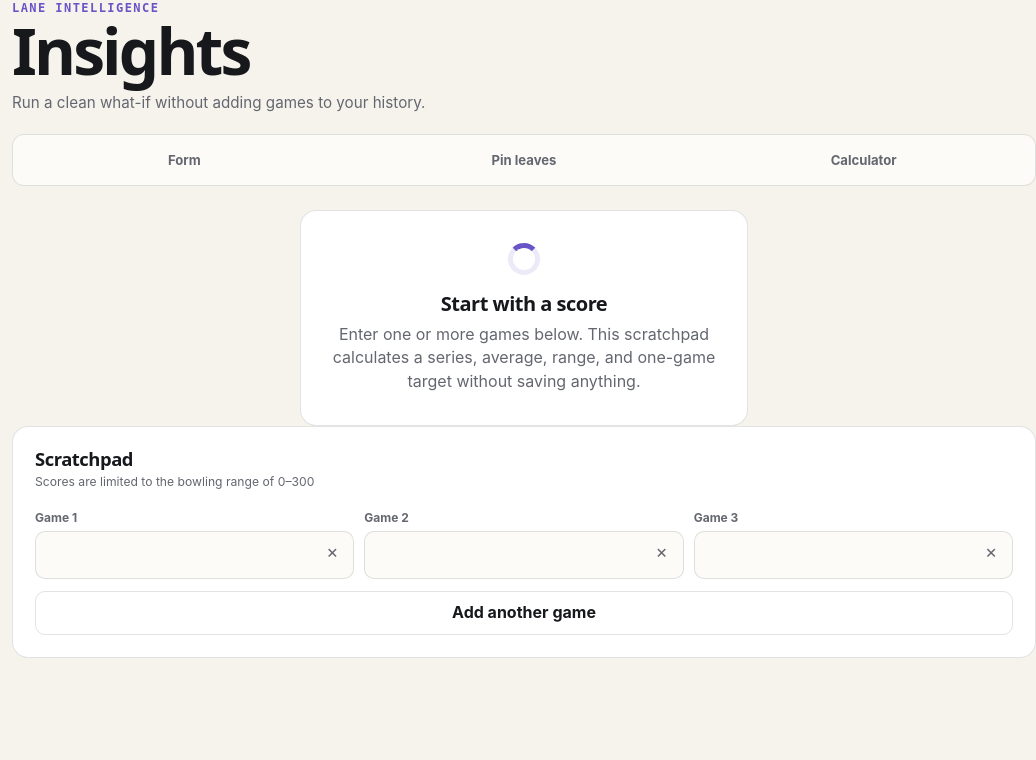
it: Insights pages › uses the displayed rounded average when calculating the required next score
Step 1. Type "199" into the number field labelled "Game 1" → coordinates (195, 555), box x1=35 y1=531 x2=354 y2=579
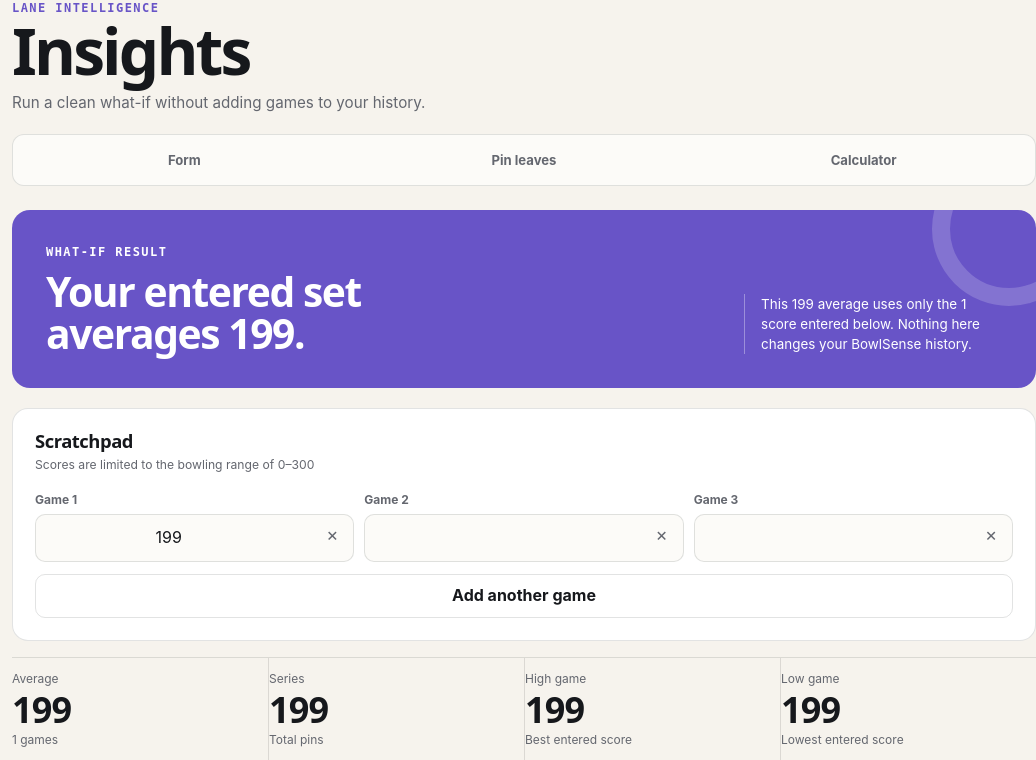
Step 2. Type "200" into the number field labelled "Game 2" → coordinates (524, 538), box x1=364 y1=514 x2=684 y2=562
(page scrolled)
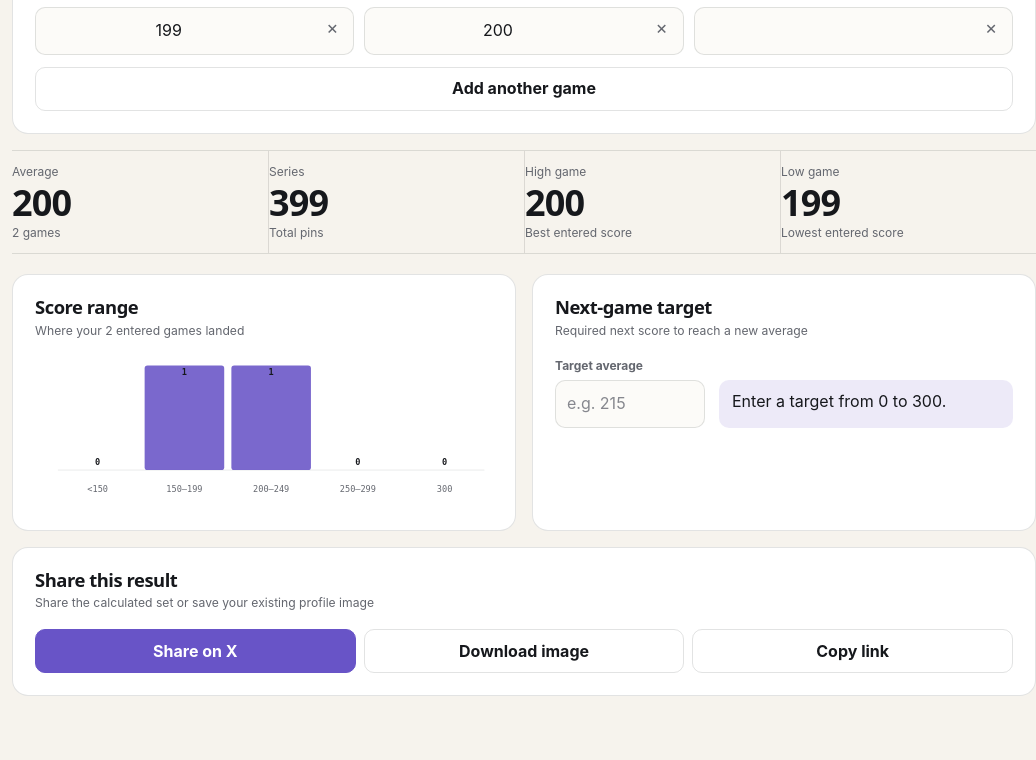
Step 3. Type "200" into the number field labelled "Target average" → coordinates (630, 404), box x1=555 y1=380 x2=705 y2=428
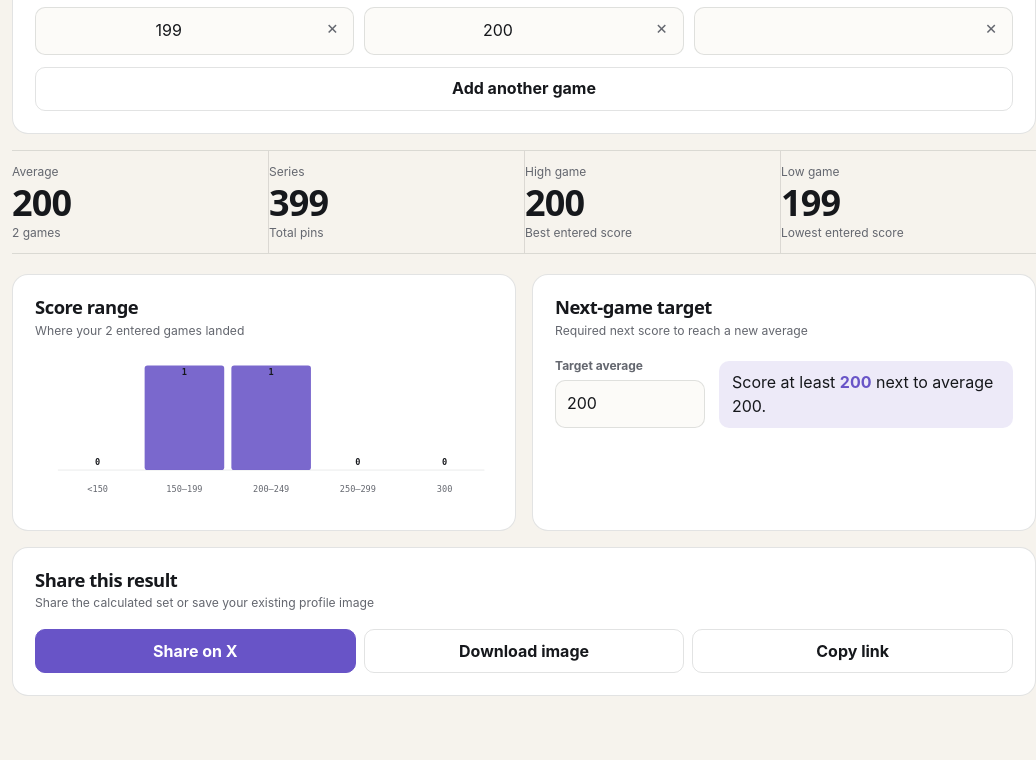
Result: the text "Score at least 200 next to average 200." is shown at x1=732 y1=372 x2=993 y2=416
